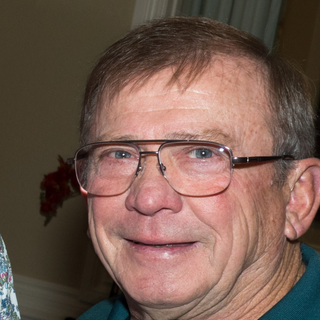eye: (94, 145, 140, 168), (175, 145, 226, 164)
